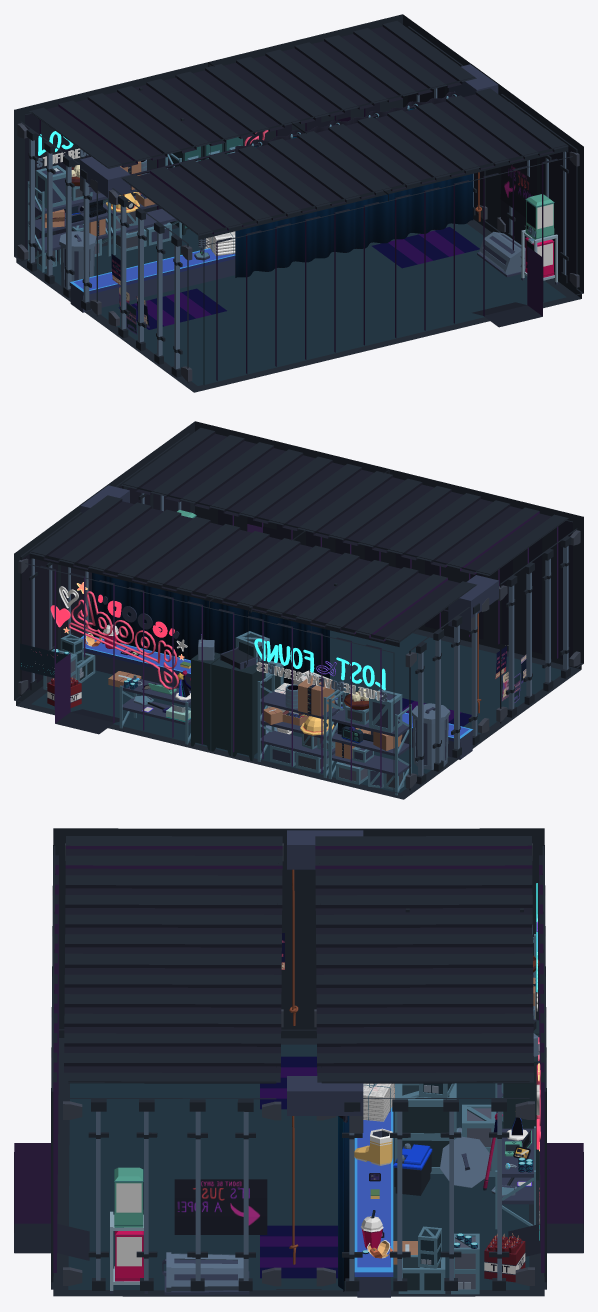
File: INT_LostAndFound01.fbx
3 views of the same model, one above another, from view 1: azimuth 30°, elevation 25°; view 2: azimuth 150°, elevation 25°; view 3: azimuth 270°, elevation 25° (orthographic). The views are drawn at different scales.
Parts seen in each view (by area): view 1: LFCrate, Curtain, Counter.008, Rug.019, StorageRack.005, Rug.007, BenchCan, RopeController.001, GarbageCan.001, Posters.027, GotchaDispenser, StorageRack.006 (+6 smaller); view 2: LFCrate, Curtain, GoodGoodsSign, Counter.008, StorageRack.005, StorageRack.006, LostandFound, StuffLocker, StuffLocker.001, StuffLocker.002, StorageRack, GarbageCan.001 (+10 smaller); view 3: LFCrate, Counter.008, Posters.027, Rug.019, Crates.001, BenchCan, RopeController, StorageRack, Curtain, GarbageCanLid.001, GotchaDispenser, Battery.011 (+13 smaller).
Part boxes in pixels (x1,y1,x2,y2): LFCrate: [14, 14, 583, 392]; Curtain: [235, 92, 473, 277]; Counter.008: [69, 248, 235, 312]; Rug.019: [372, 227, 479, 268]; StorageRack.005: [27, 181, 110, 272]; Rug.007: [118, 288, 226, 329]; BenchCan: [477, 231, 525, 277]; RopeController.001: [80, 156, 130, 197]; GarbageCan.001: [59, 231, 96, 292]; Posters.027: [500, 164, 535, 217]; GotchaDispenser: [525, 194, 554, 239]; StorageRack.006: [102, 153, 181, 254]; LFCrate: [14, 421, 583, 799]; Curtain: [92, 573, 329, 684]; GoodGoodsSign: [50, 582, 187, 689]; Counter.008: [81, 635, 473, 759]; StorageRack.005: [328, 688, 411, 795]; StorageRack.006: [257, 673, 340, 777]; LostandFound: [254, 638, 387, 701]; StuffLocker: [232, 662, 265, 761]; StuffLocker.001: [211, 658, 235, 755]; StuffLocker.002: [191, 652, 220, 750]; StorageRack: [119, 675, 190, 744]; GarbageCan.001: [412, 703, 450, 769]; LFCrate: [14, 828, 583, 1296]; Counter.008: [354, 1107, 393, 1297]; Posters.027: [174, 1179, 267, 1234]; Rug.019: [260, 1225, 337, 1278]; Crates.001: [395, 1083, 456, 1173]; BenchCan: [162, 1252, 249, 1294]; RopeController: [287, 1076, 363, 1132]; StorageRack: [495, 1126, 535, 1229]; Curtain: [338, 1116, 349, 1291]; GarbageCanLid.001: [440, 1136, 489, 1187]; GotchaDispenser: [114, 1167, 143, 1227]; Battery.011: [393, 1143, 432, 1195].
Size of the model in its own units: 1871 by 693 by 1704.
